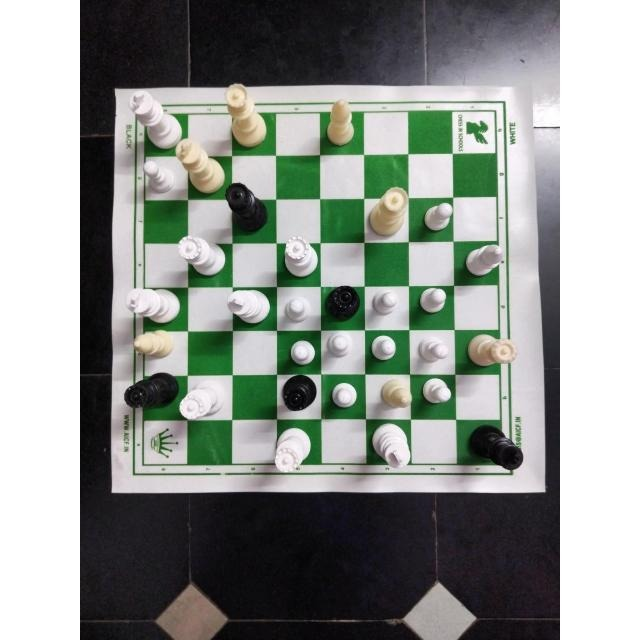black-king: (464, 425, 524, 469)
black-queen: (225, 182, 266, 233), (124, 371, 176, 411), (324, 286, 362, 320), (280, 376, 317, 410)
white-bishop: (324, 98, 357, 145), (464, 241, 504, 277), (132, 328, 174, 360), (380, 377, 412, 410)
white-king: (127, 91, 182, 143), (174, 139, 224, 193), (123, 287, 181, 324), (370, 423, 412, 469), (227, 288, 271, 324)
white-pawn: (412, 335, 451, 364), (142, 158, 174, 193), (416, 286, 448, 318), (421, 374, 453, 405), (327, 378, 359, 409), (423, 199, 453, 232), (369, 286, 399, 317), (280, 295, 313, 323), (286, 337, 317, 366), (323, 331, 353, 359), (370, 336, 400, 362)
white-queen: (223, 82, 266, 148), (174, 233, 227, 278), (367, 186, 409, 238), (465, 331, 519, 371), (179, 379, 224, 423), (272, 426, 312, 473), (282, 234, 321, 278)
